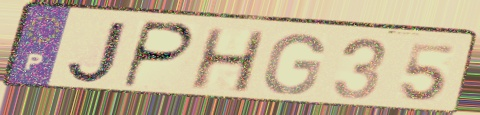3: (330, 36, 389, 101)
5: (395, 40, 458, 103)
G: (260, 32, 327, 97)
H: (186, 26, 269, 95)
J: (63, 19, 132, 86)
P: (119, 19, 197, 91)
